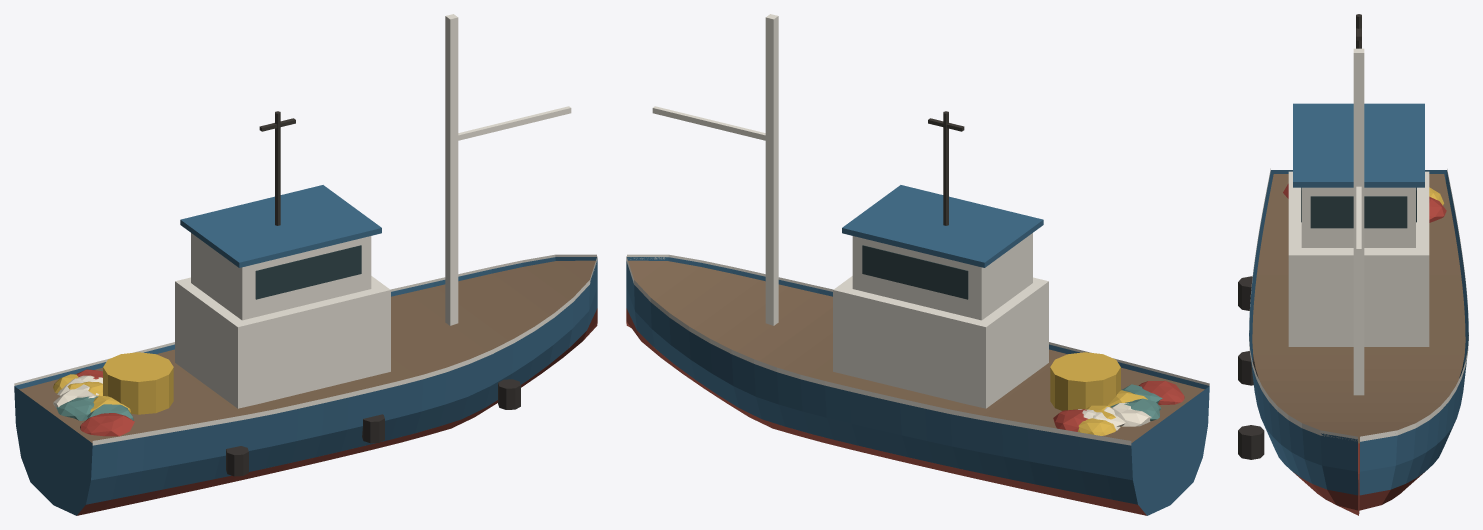
The model's file is girgir-teknesi-mavi.glb.
The picture shows the model from 3 angles, left to right: view 1: azimuth 30°, elevation 25°; view 2: azimuth 150°, elevation 25°; view 3: azimuth 270°, elevation 25°; orthographic projection. The views are drawn at different scales.
Visible parts, largest first — view 1: tekne_mavi, tekne_beyaz, ahsap, beyaz, tekne_sari, karina, cam, kauçuk, kirmizi, kepenk2, demir, ip; view 2: tekne_mavi, tekne_beyaz, ahsap, beyaz, tekne_sari, karina, cam, kirmizi, ip, demir, kepenk2; view 3: ahsap, tekne_mavi, tekne_beyaz, beyaz, cam, kauçuk, karina, kirmizi.
Boxes of the visible parts, bbox=[...] form: tekne_mavi: bbox=[14, 185, 597, 515]; tekne_beyaz: bbox=[175, 233, 390, 408]; ahsap: bbox=[19, 260, 595, 442]; beyaz: bbox=[14, 14, 597, 445]; tekne_sari: bbox=[53, 352, 173, 414]; karina: bbox=[77, 308, 597, 515]; cam: bbox=[255, 245, 361, 299]; kauçuk: bbox=[226, 379, 520, 476]; kirmizi: bbox=[75, 369, 134, 436]; kepenk2: bbox=[56, 396, 133, 420]; demir: bbox=[259, 111, 295, 225]; ip: bbox=[53, 375, 102, 408]; tekne_mavi: bbox=[626, 185, 1209, 515]; tekne_beyaz: bbox=[833, 233, 1048, 408]; ahsap: bbox=[628, 260, 1204, 442]; beyaz: bbox=[626, 14, 1209, 445]; tekne_sari: bbox=[1050, 352, 1147, 435]; karina: bbox=[626, 308, 1146, 515]; cam: bbox=[862, 245, 968, 299]; kirmizi: bbox=[1053, 380, 1184, 431]; ip: bbox=[1078, 403, 1151, 430]; demir: bbox=[928, 111, 964, 225]; kepenk2: bbox=[1110, 384, 1162, 421]; ahsap: bbox=[1252, 174, 1465, 443]; tekne_mavi: bbox=[1249, 103, 1468, 495]; tekne_beyaz: bbox=[1288, 171, 1429, 346]; beyaz: bbox=[1249, 48, 1468, 441]; cam: bbox=[1301, 187, 1416, 228]; kauçuk: bbox=[1238, 276, 1264, 459]; karina: bbox=[1293, 443, 1424, 515]; kirmizi: bbox=[1283, 183, 1446, 222].
Bounding box in the file's own units: 16 × 11 × 5.25.
